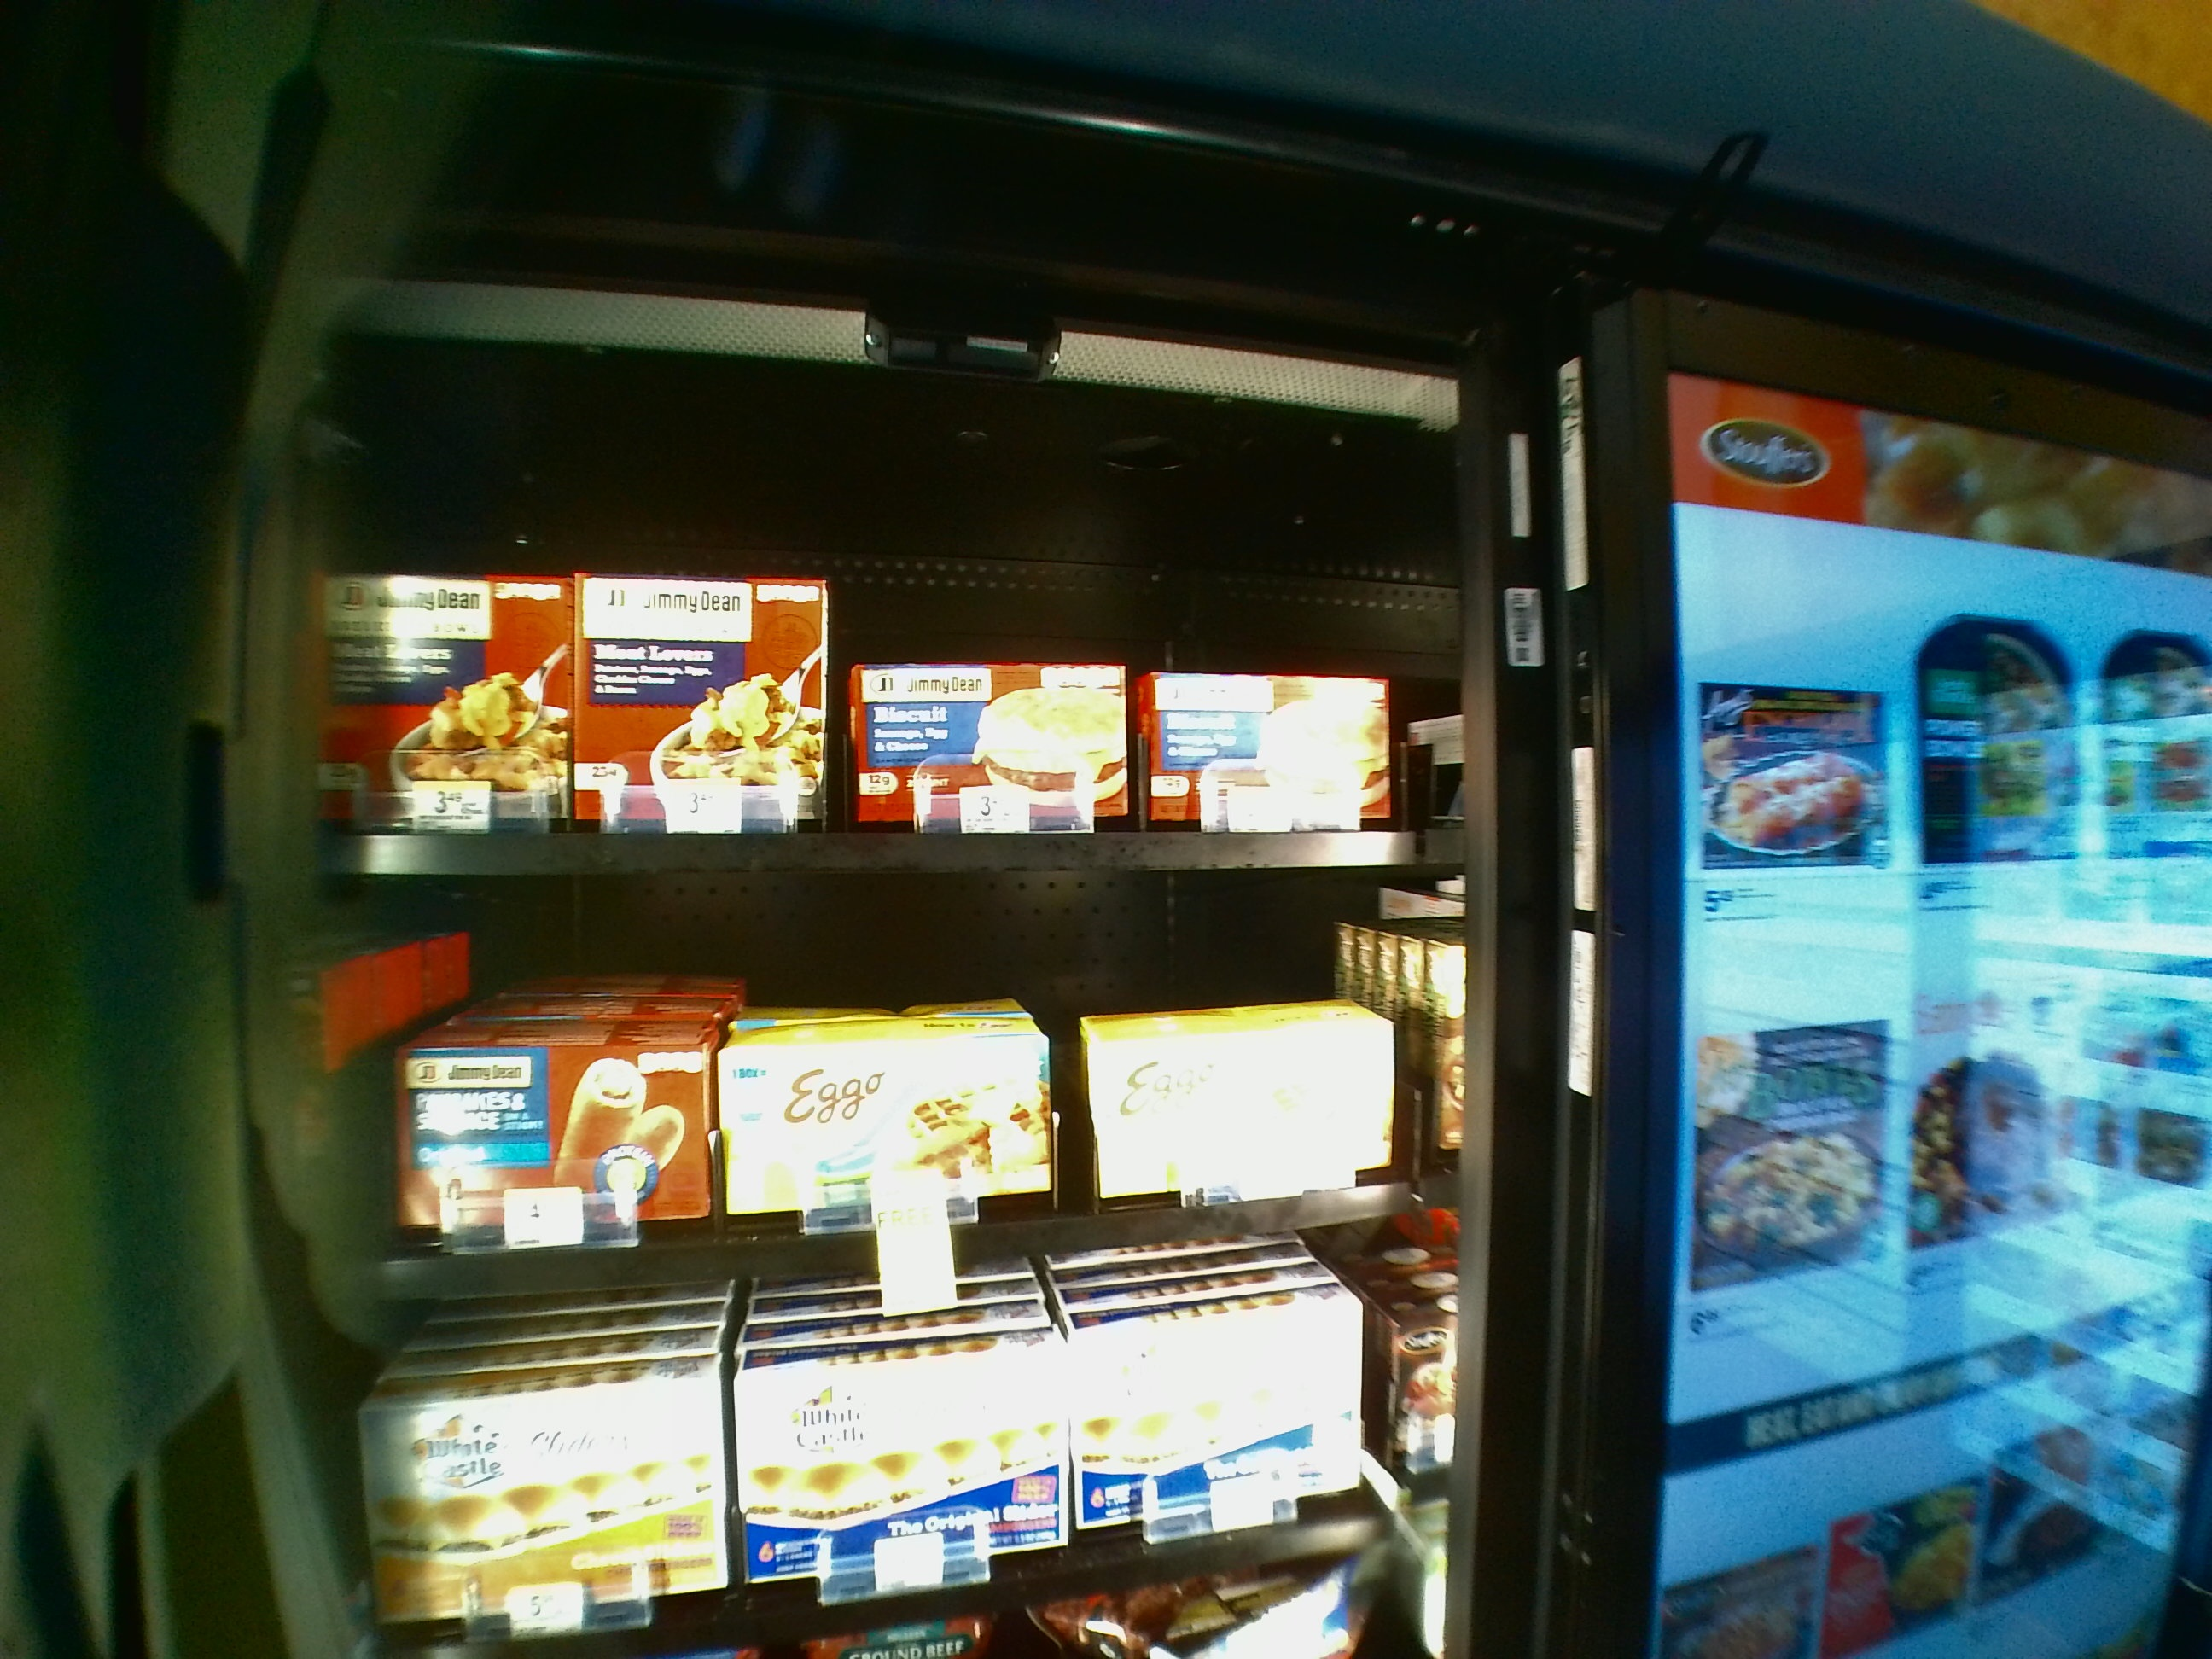shelf: (320, 427, 1453, 871), (315, 884, 1440, 1293)
